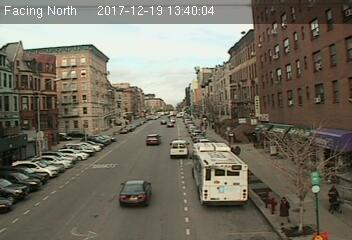bus: (191, 142, 247, 208)
car: (117, 180, 152, 205), (144, 133, 162, 144)
truck: (170, 138, 188, 157)
